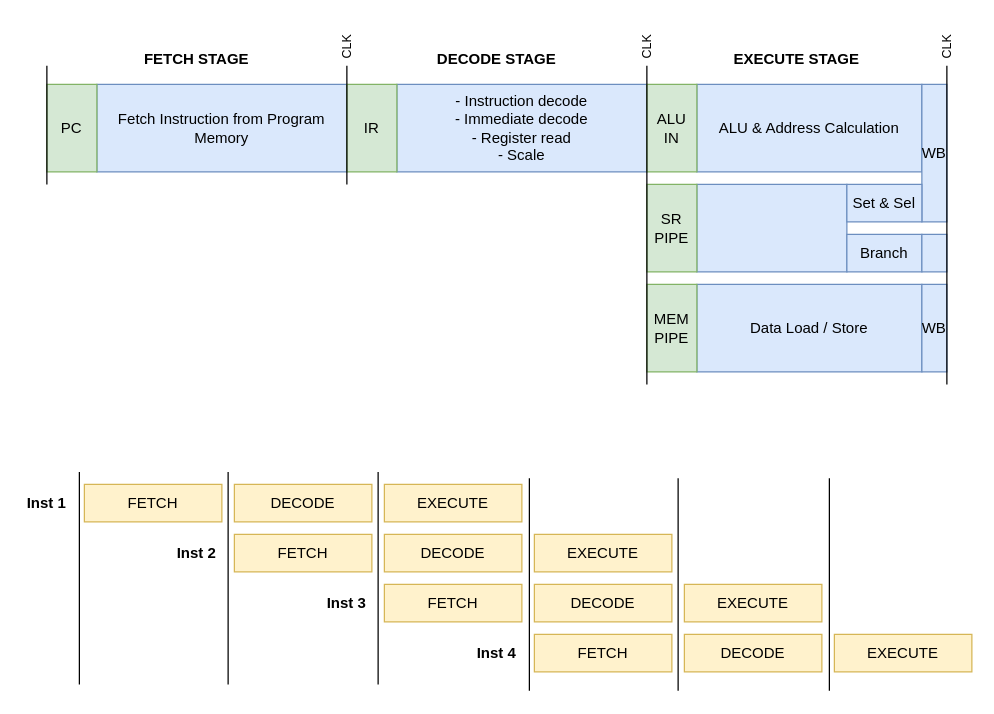
The diagram is 994 pixels wide and 714 high, and some of its shapes have lost their labels. The centre of each missing label's shape, as x and y in pixels:
"BR" goes at (934,252).
"Status Flags" goes at (771,227).
